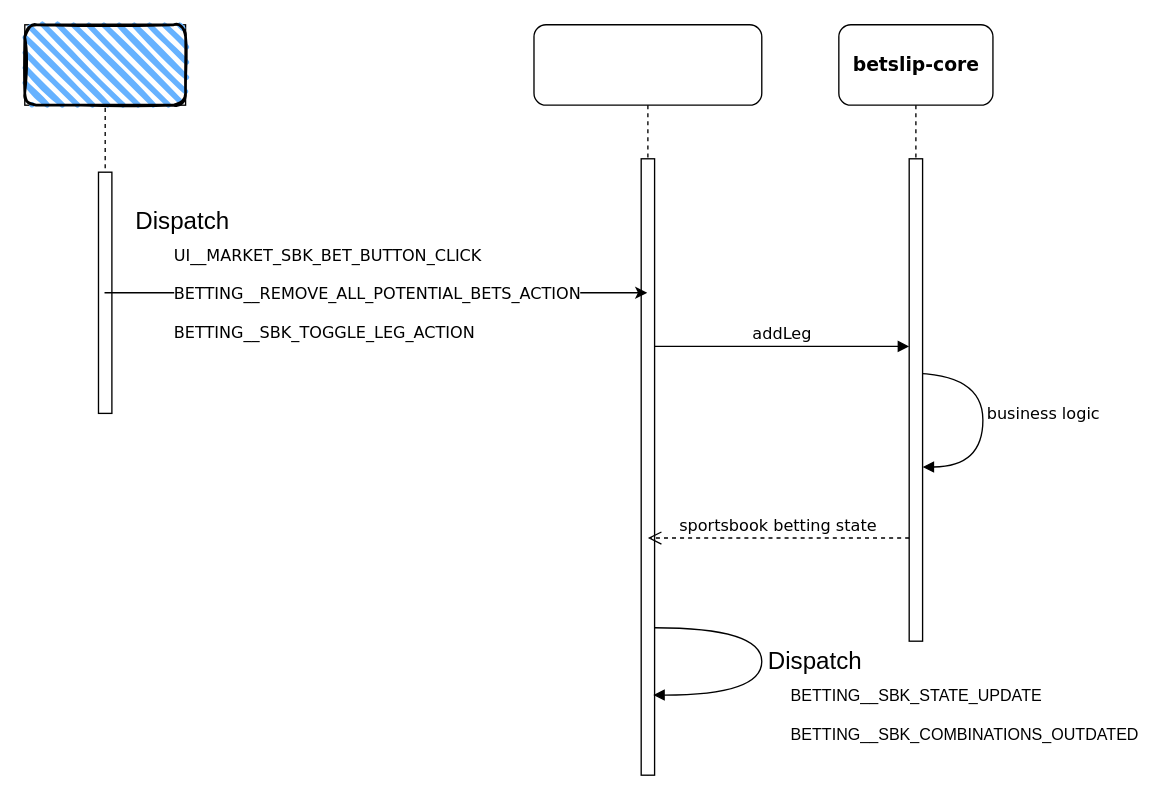
The diagram is 1162 pixels wide and 799 high, and some of its shapes have lost their labels. The box of each missing label's shape, as (x1, y1, x2, y2) in pixels:
bet button: (23, 23, 186, 106)
sportsbook-betting (store middleware ): (533, 23, 762, 775)
